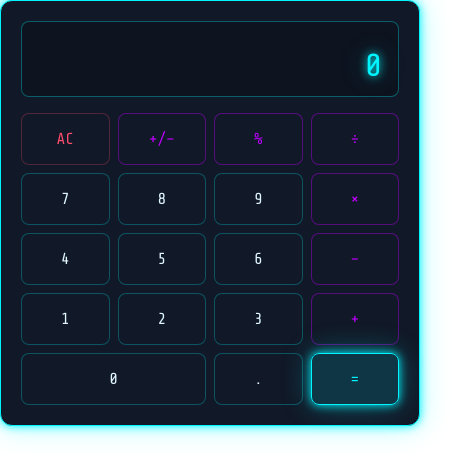
Test: Calculator — digit input › replaces leading 0 with digit
The width and height of the screenshot is (454, 460).
Click the button "5".
click(162, 259)  # box [118,233,206,285]
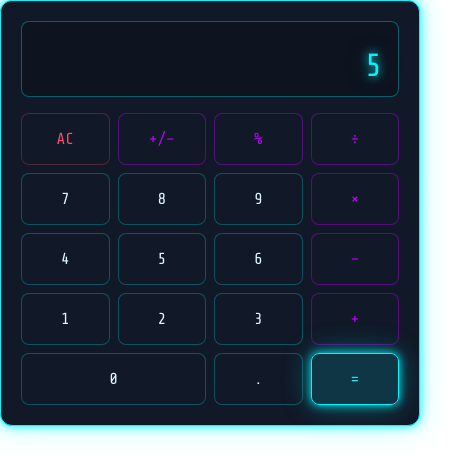
Result: the text with class "display-value" reads "5" at [365,48,382,84]
